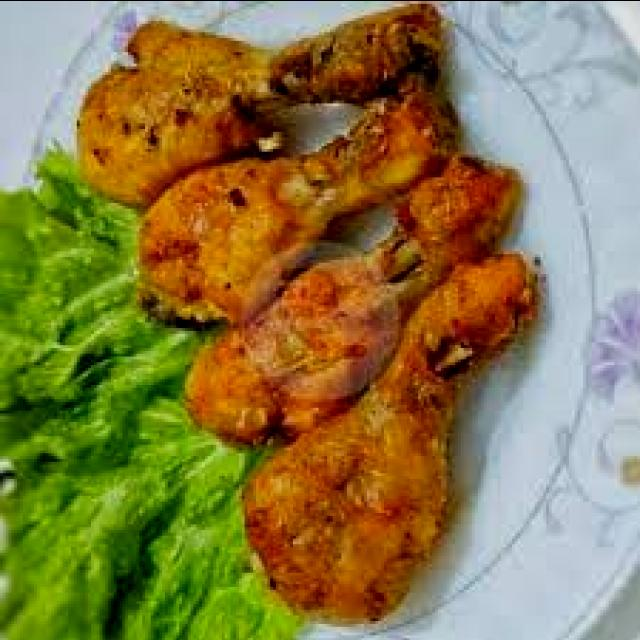ayam goreng: (242, 250, 540, 629), (77, 3, 447, 210), (139, 91, 447, 324)
